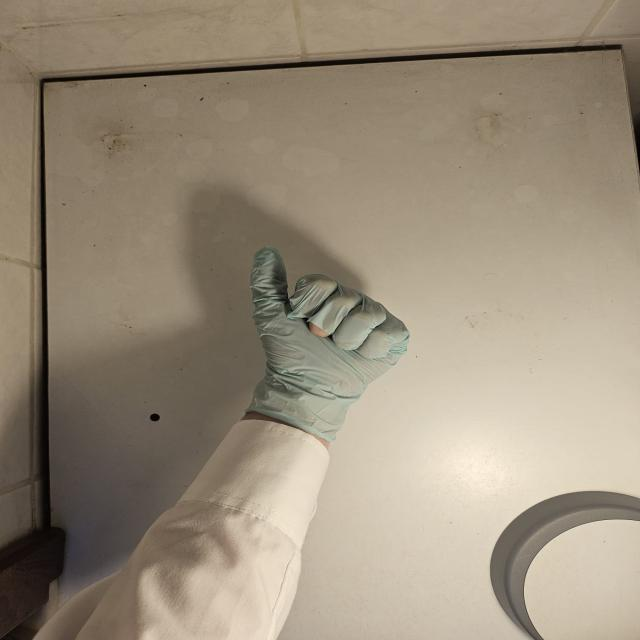gloves_damaged: (243, 243, 417, 448)
